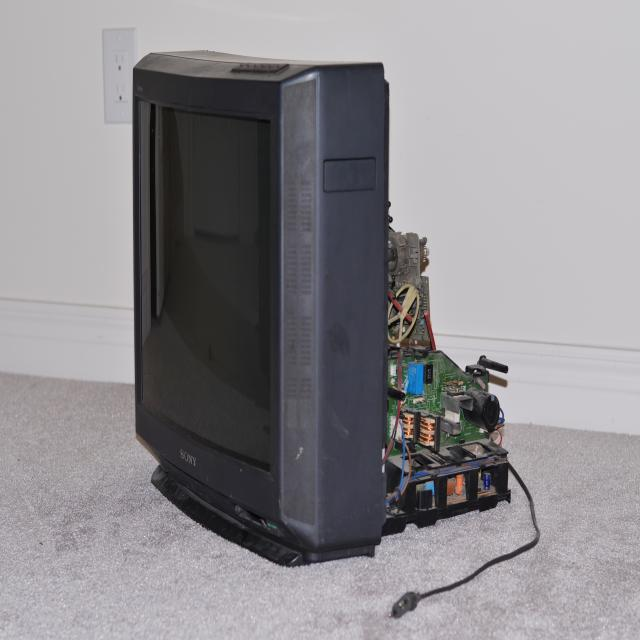electronics: (133, 51, 511, 565), (133, 51, 388, 563), (383, 227, 540, 617), (383, 229, 510, 534), (383, 347, 510, 534), (388, 463, 540, 618), (388, 345, 503, 451), (383, 439, 510, 534), (387, 227, 433, 346), (102, 28, 138, 123), (462, 387, 500, 432), (393, 592, 431, 614), (407, 362, 433, 394), (447, 473, 472, 499), (478, 356, 508, 373), (389, 397, 398, 438), (388, 396, 397, 436), (388, 387, 405, 400), (447, 476, 459, 494), (480, 470, 490, 491), (532, 502, 535, 523), (484, 474, 487, 486), (396, 430, 400, 439), (479, 566, 486, 570), (514, 550, 522, 553), (391, 391, 395, 396), (389, 216, 392, 222), (486, 562, 491, 565), (502, 556, 506, 559), (509, 554, 512, 557), (496, 434, 499, 436), (445, 587, 449, 588), (533, 542, 535, 544), (278, 556, 281, 557), (527, 546, 530, 547), (536, 538, 537, 541), (398, 344, 399, 346), (287, 556, 289, 557), (465, 579, 467, 580), (496, 560, 498, 561), (523, 547, 524, 549), (267, 553, 268, 554), (163, 476, 164, 477), (454, 398, 455, 399), (469, 578, 470, 579), (492, 561, 493, 562), (519, 480, 520, 481), (400, 438, 401, 439), (199, 503, 200, 503), (158, 481, 159, 481), (472, 576, 472, 576), (476, 572, 477, 572), (528, 494, 528, 495), (521, 483, 521, 483), (512, 469, 512, 470)
fans: (389, 463, 540, 617), (489, 407, 505, 446)
